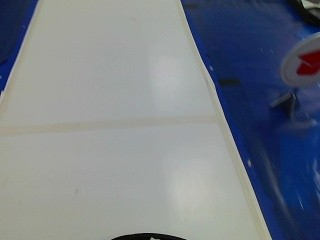school: (277, 27, 320, 88)
